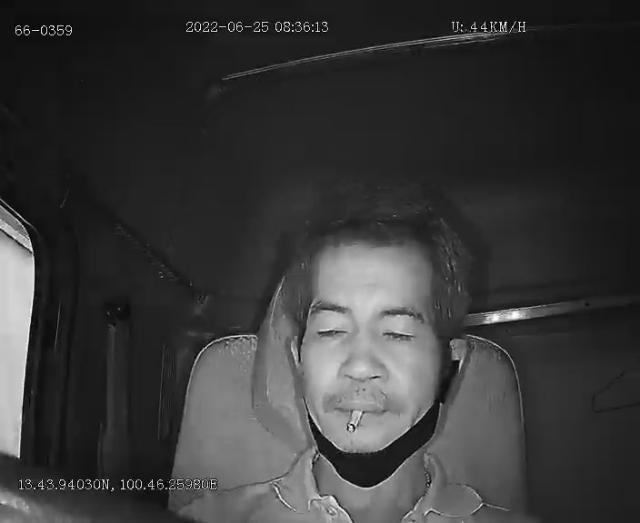SafeDriving: (376, 318, 422, 346)
Smoking: (345, 410, 365, 434)
